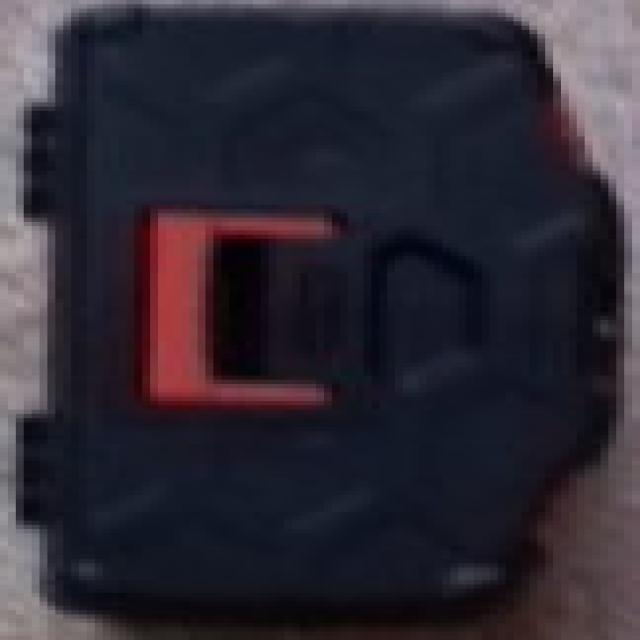boxes: (15, 8, 622, 629)
